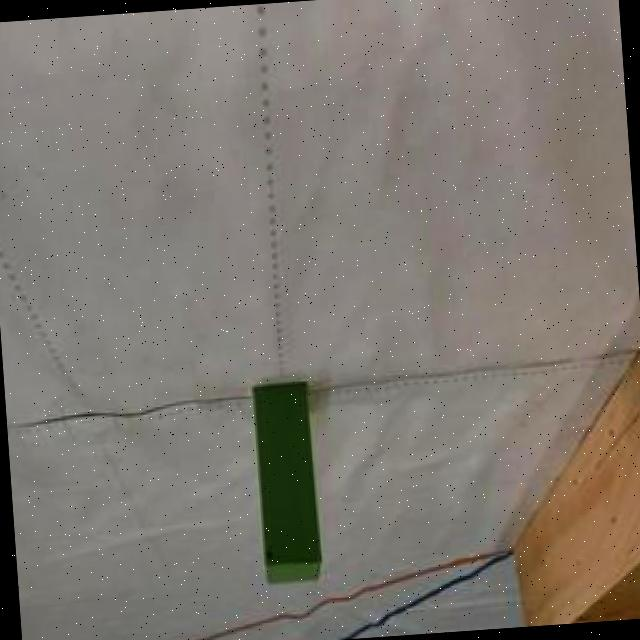greenbox: (250, 380, 324, 587)
